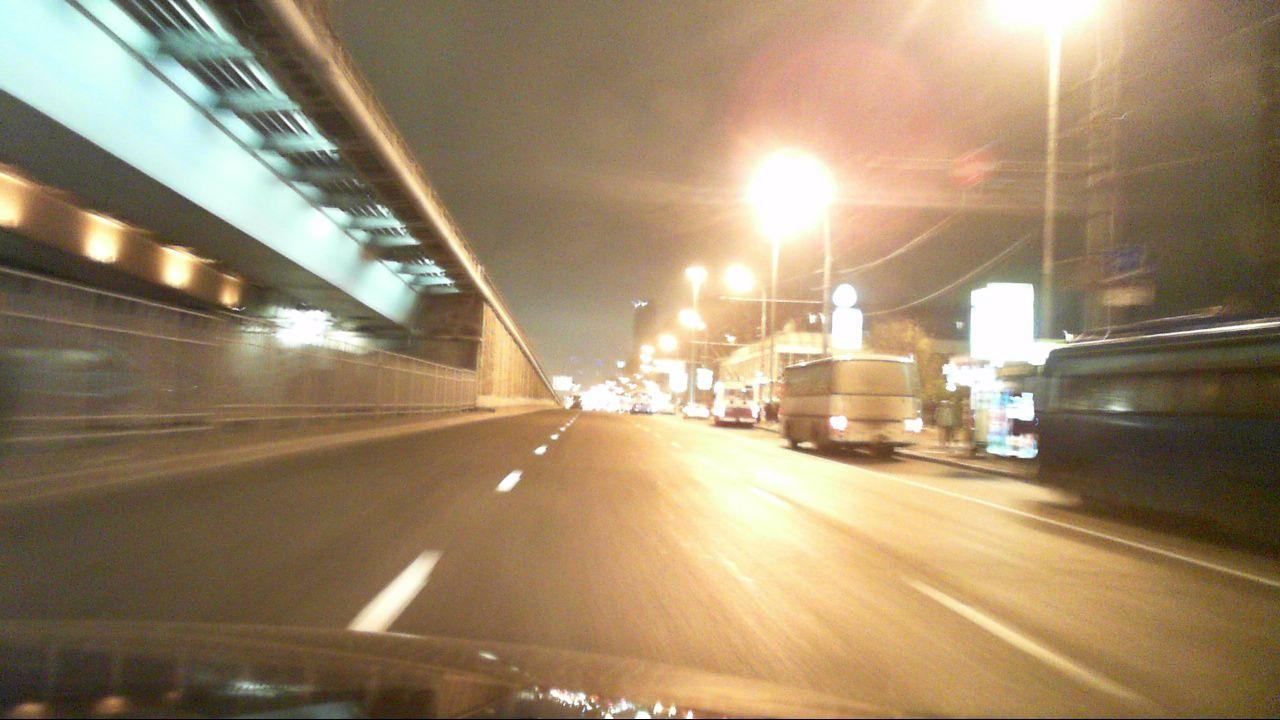6_6: (1118, 242, 1155, 280)
